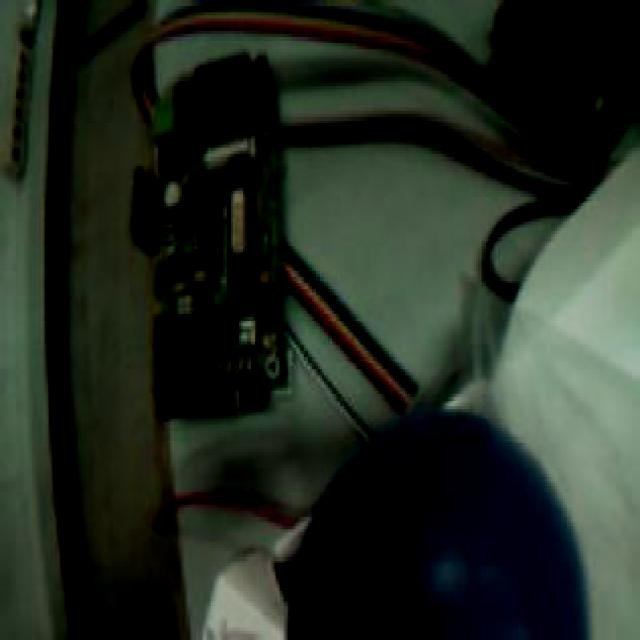BallPurple: (289, 410, 591, 640)
